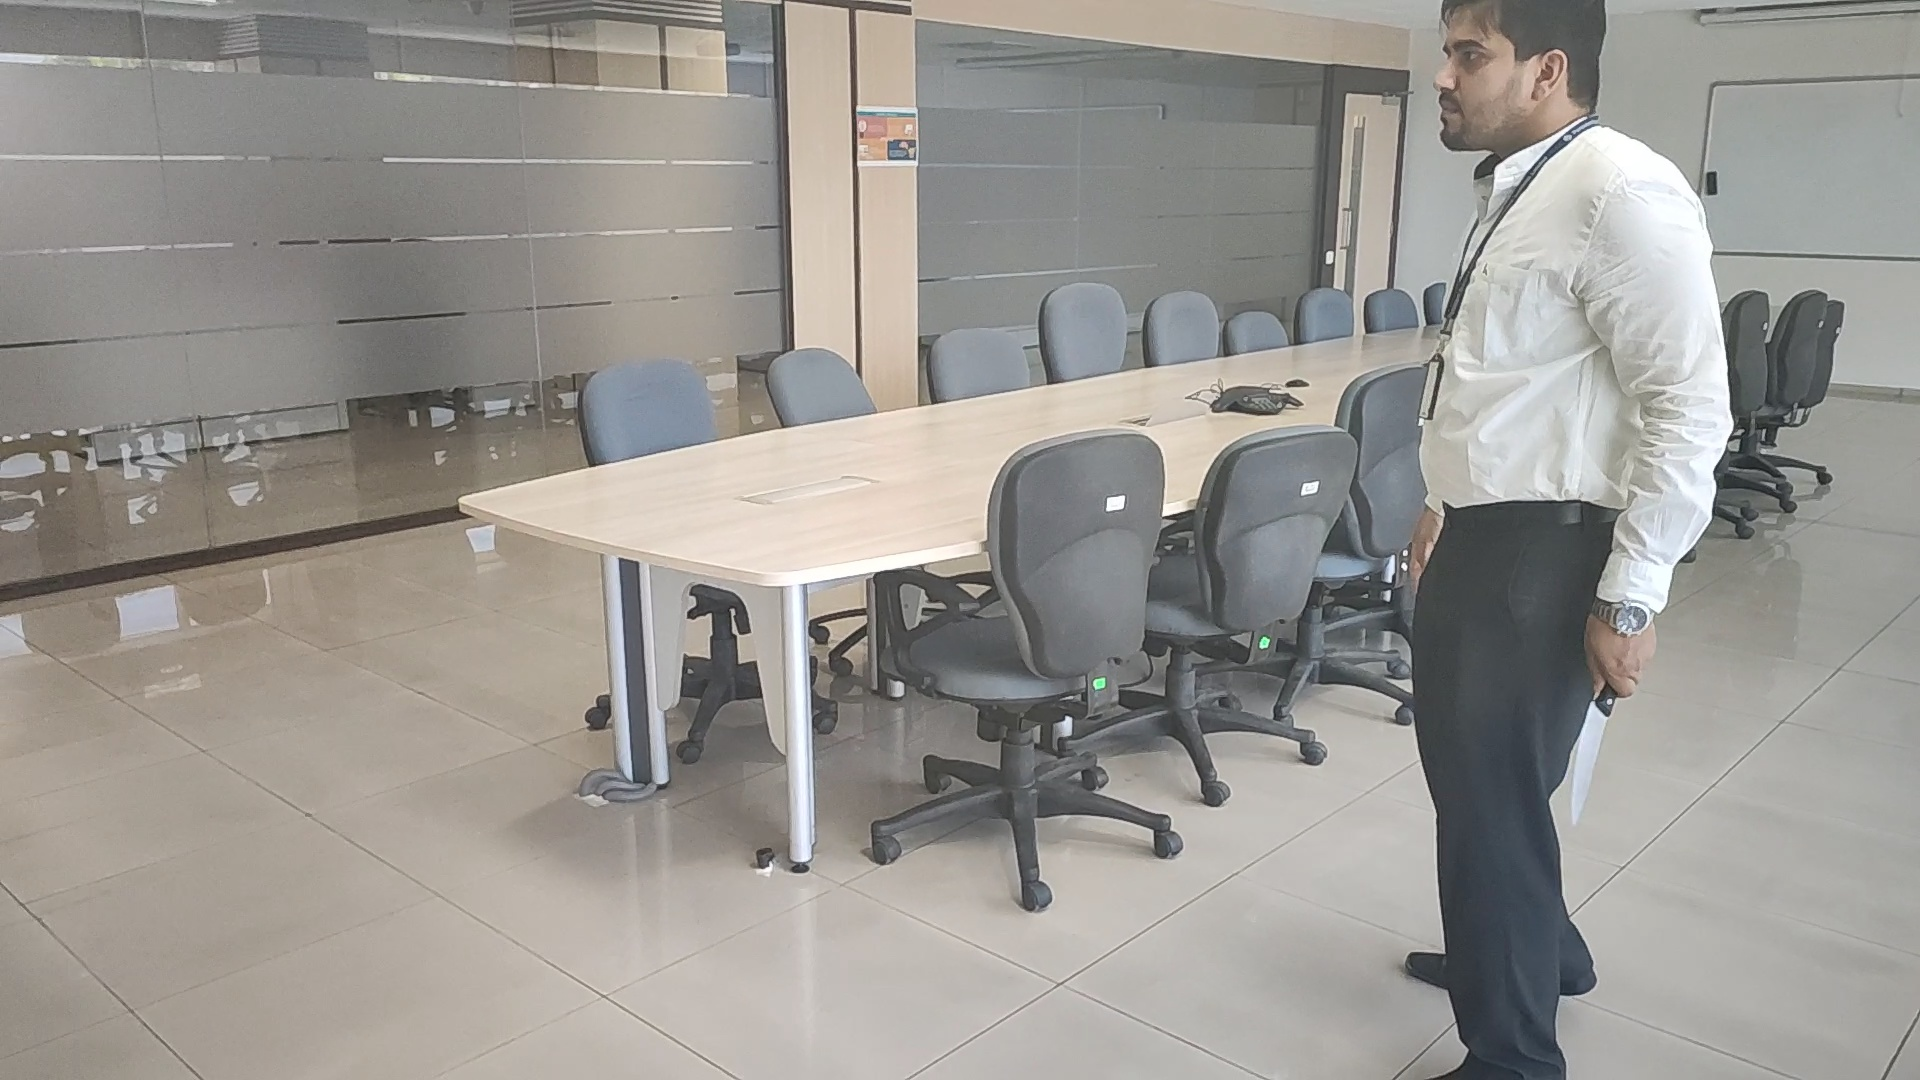knife: (1571, 699, 1604, 825)
